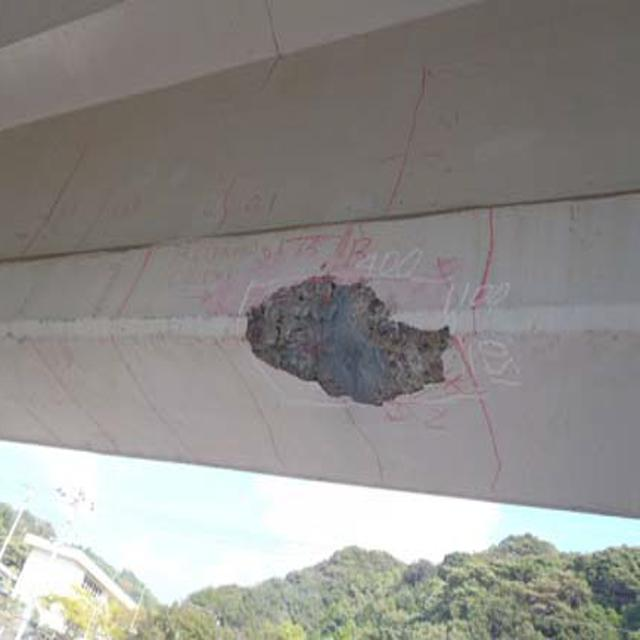spalling: (228, 267, 466, 419)
